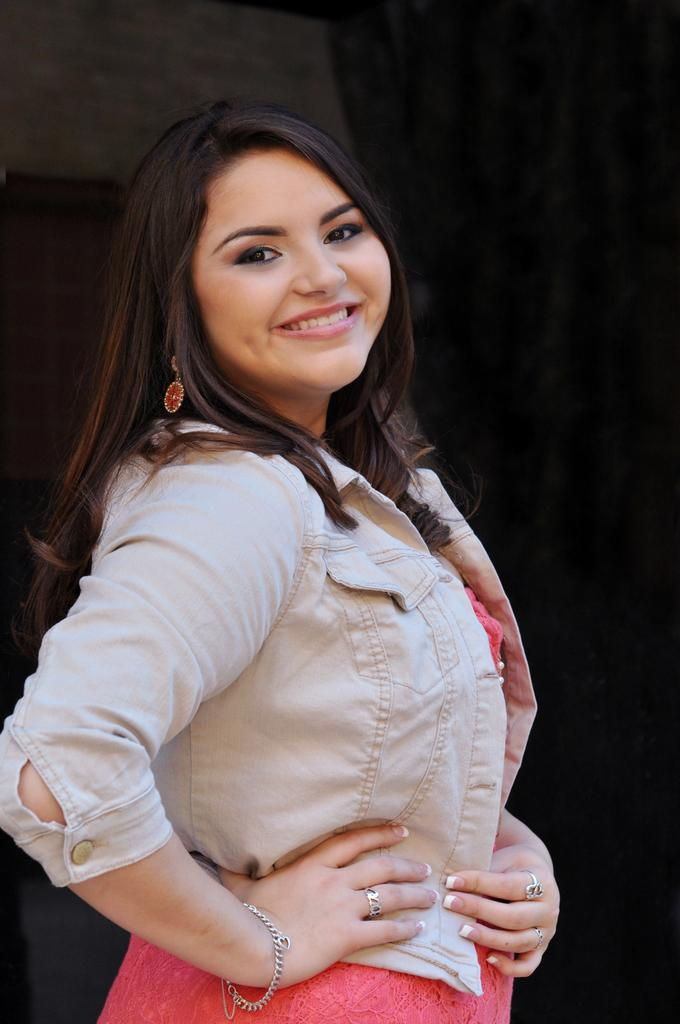Sem Máscara: (189, 143, 385, 391)
